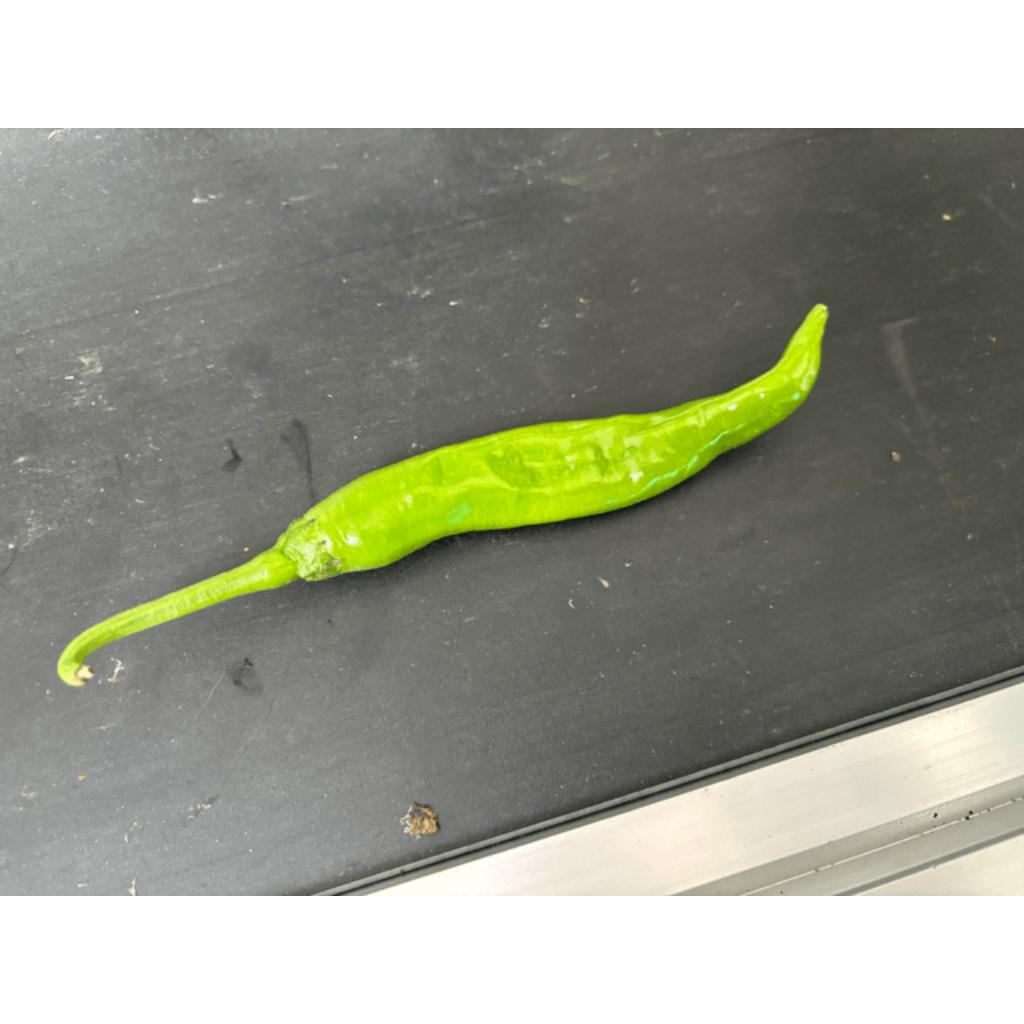chili: (260, 300, 833, 585)
